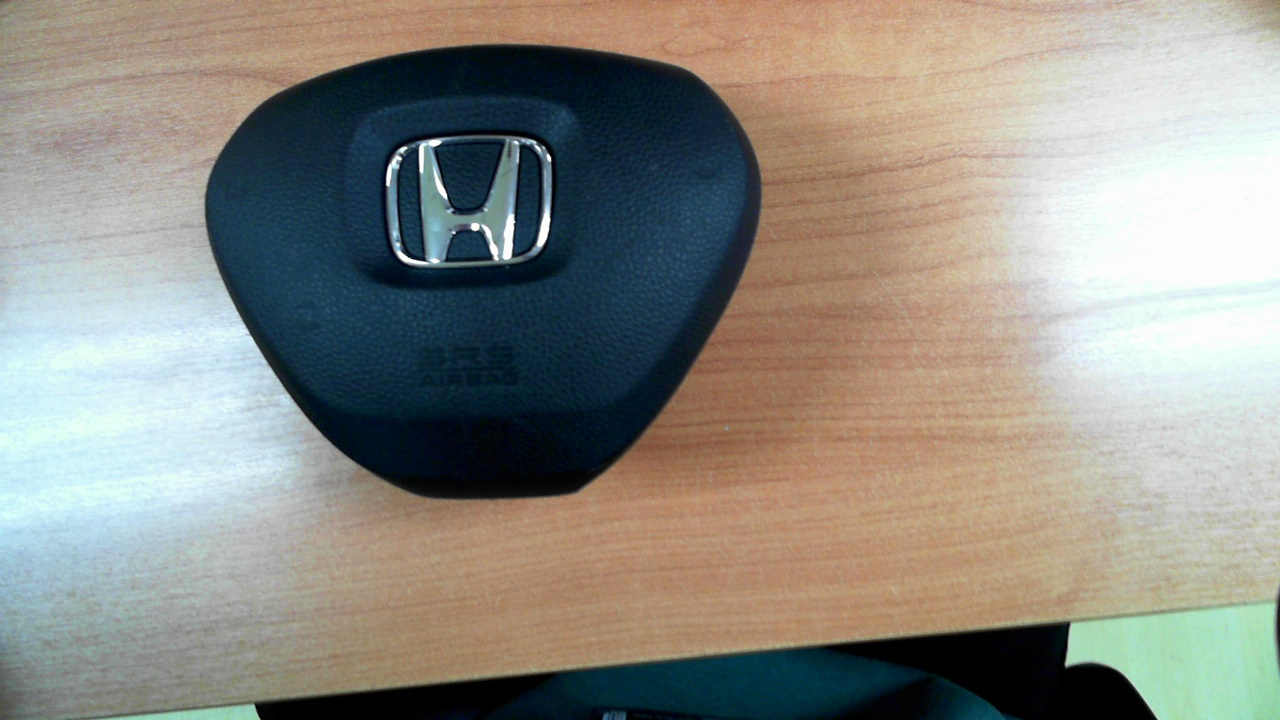Airbag: (204, 43, 762, 500)
Honda: (385, 134, 553, 268)
